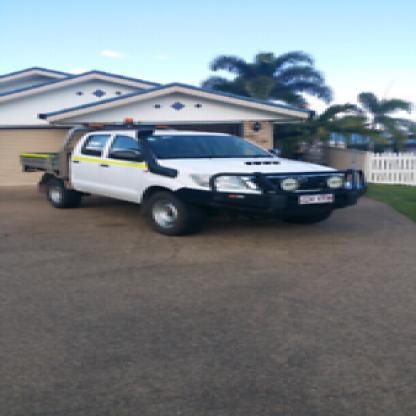light_vehicle: (15, 118, 386, 236)
